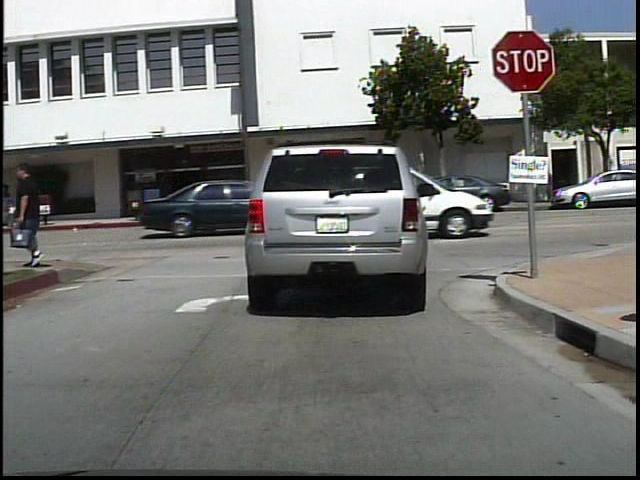person: (14, 161, 67, 270), (31, 179, 54, 226), (2, 177, 26, 222)
